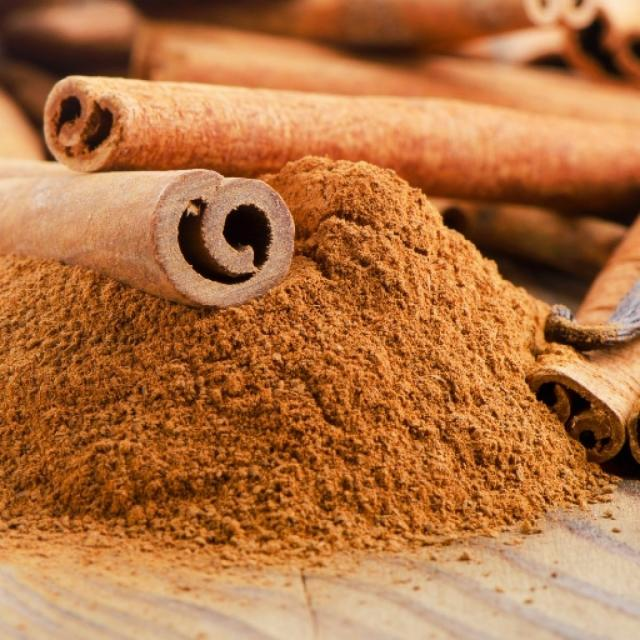Cinnamon: (45, 78, 640, 212), (0, 170, 294, 307), (130, 20, 458, 97), (528, 279, 640, 462)
